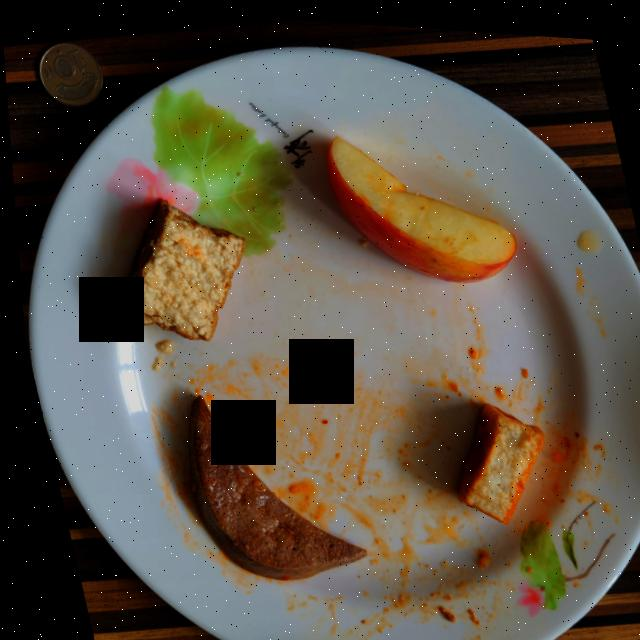apple -sliced-: (324, 132, 512, 276)
coin: (37, 42, 101, 106)
creamy tofu: (450, 397, 537, 518)
egg tofu: (112, 198, 241, 339)
pig liver: (181, 393, 358, 577)
